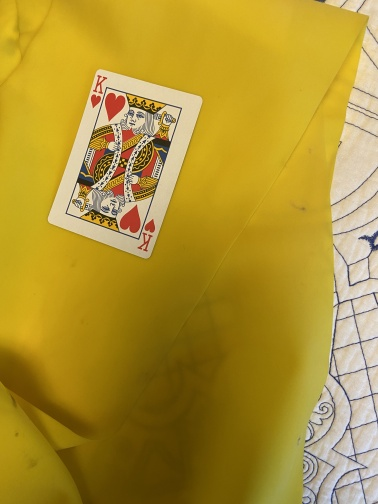king: (46, 68, 205, 262)
